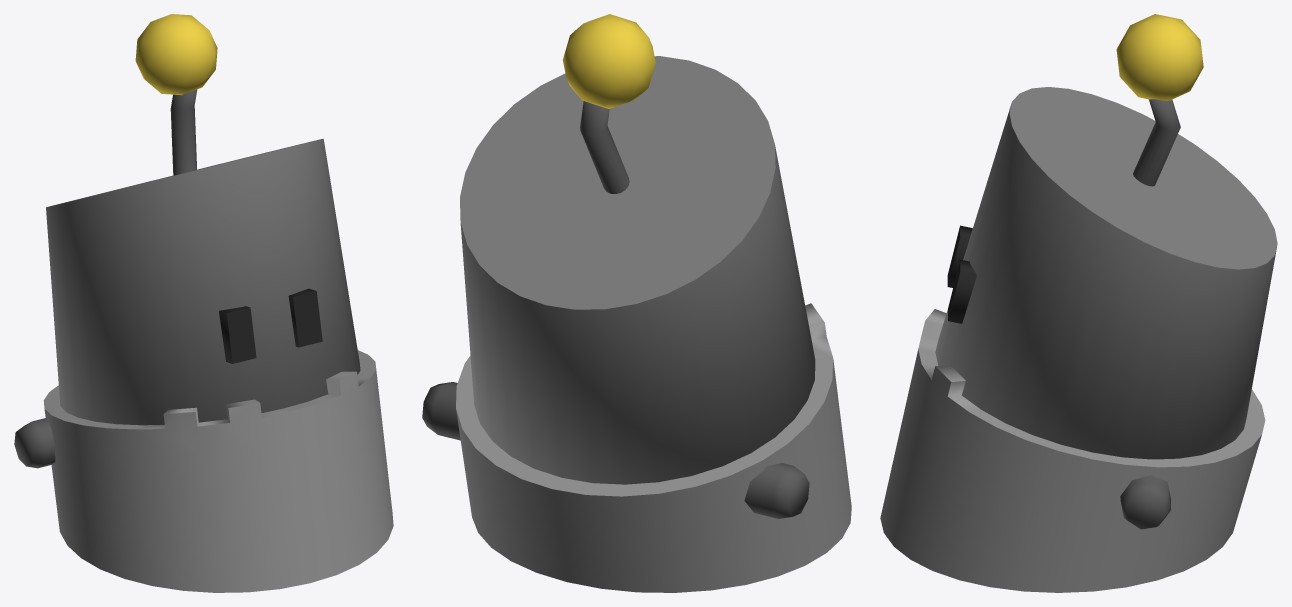
The model's file is robotHead.fbx.
3 views of the same model, side by side, from view 1: azimuth 30°, elevation 25°; view 2: azimuth 150°, elevation 25°; view 3: azimuth 270°, elevation 25° (orthographic). The views are drawn at different scales.
Parts seen in each view (by area): view 1: Robot Head; view 2: Robot Head; view 3: Robot Head.
Boxes of the visible parts, x1,y1,x2,y2 form: Robot Head: (14, 14, 393, 592); Robot Head: (422, 14, 851, 592); Robot Head: (880, 14, 1277, 592).
Size of the model in its own units: 357 by 359 by 498.
